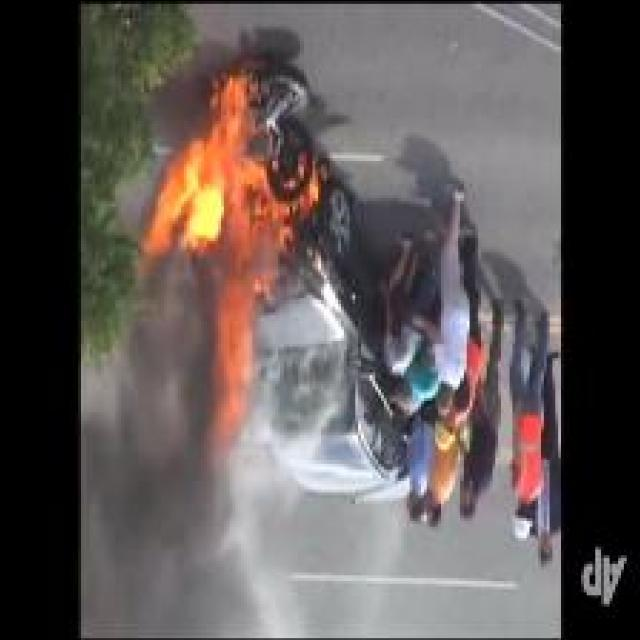Fire: (140, 70, 317, 473)
